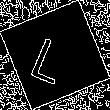L_NE: (31, 26, 79, 84)
